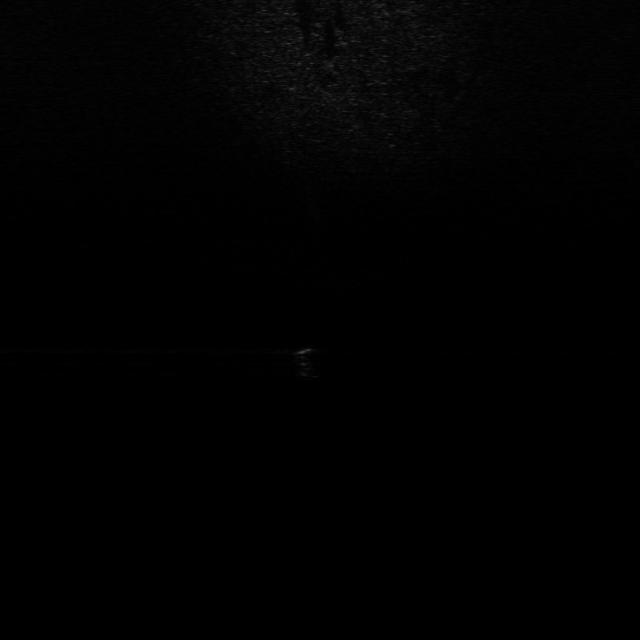human body: (289, 345, 322, 388)
